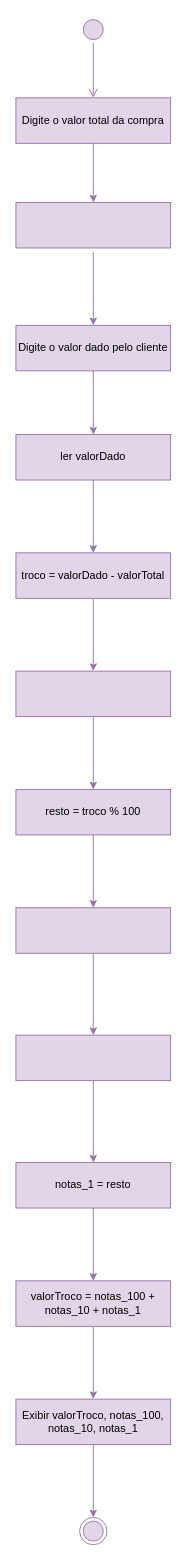
Some shapes in this 187 by 1561 pixel diagram are drawn without their labels. The shapes that lost their labels are listed below. From the top down, each one's centre as x and y in pixels, then its label:
At (93,225): "ler valorTotal".
At (93,693): "notas_100 = troco / 100".
At (93,930): "notas_10 = resto / 10".
At (93,1057): "resto = resto % 10".
